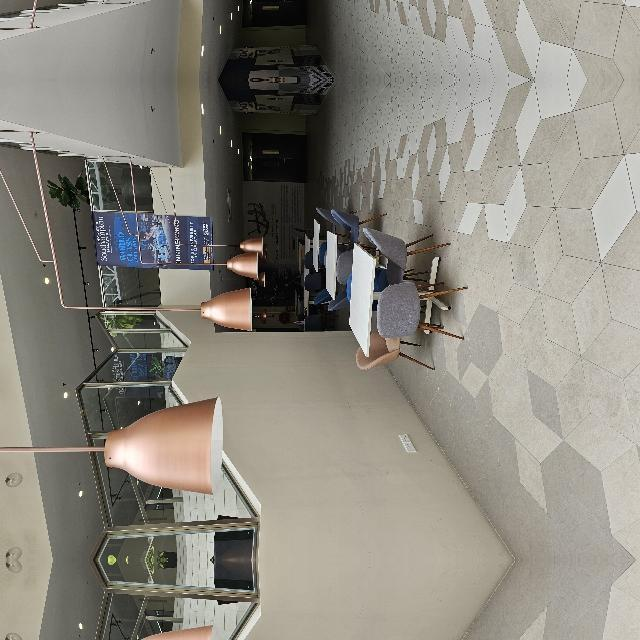obstacle: (188, 430, 336, 546), (188, 574, 336, 640)
